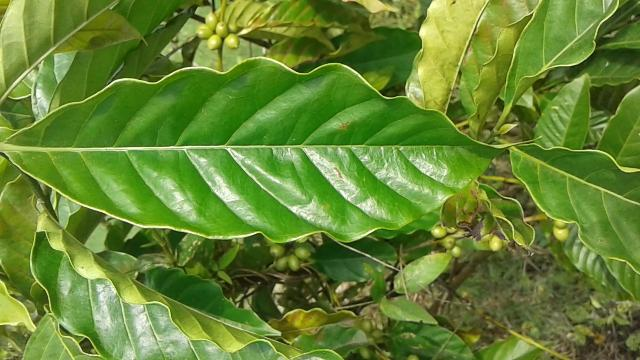healthy: (2, 59, 503, 242)
